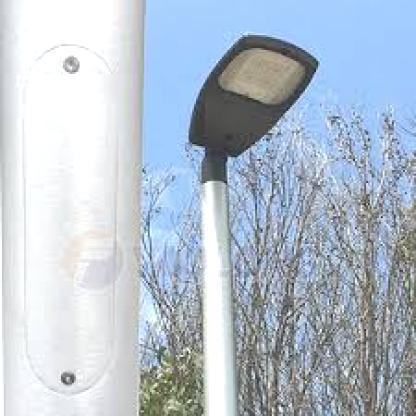light_pole: (187, 32, 320, 413)
